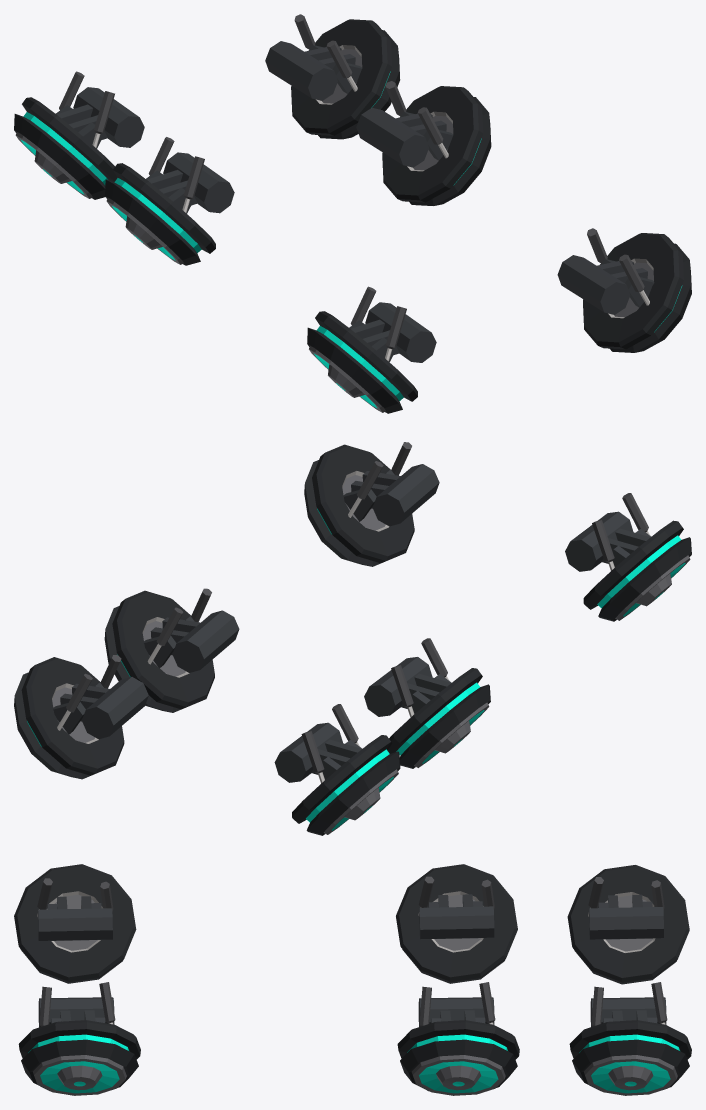
The model's file is SM_Veh_Truck_01_Hover_Pads_01.fbx.
3 renders of one model, top to bottom at view 1: azimuth 30°, elevation 25°; view 2: azimuth 150°, elevation 25°; view 3: azimuth 270°, elevation 25°, orthographic. The views are drawn at different scales.
Parts seen in each view (by area): view 1: SM_Veh_Truck_01_Hover_Pads_01; view 2: SM_Veh_Truck_01_Hover_Pads_01; view 3: SM_Veh_Truck_01_Hover_Pads_01.
Part boxes in pixels (x1,y1,x2,y2): SM_Veh_Truck_01_Hover_Pads_01: [14, 14, 691, 413]; SM_Veh_Truck_01_Hover_Pads_01: [14, 442, 691, 835]; SM_Veh_Truck_01_Hover_Pads_01: [14, 864, 691, 1095].
Size of the model in its own units: 389 by 116 by 657.
